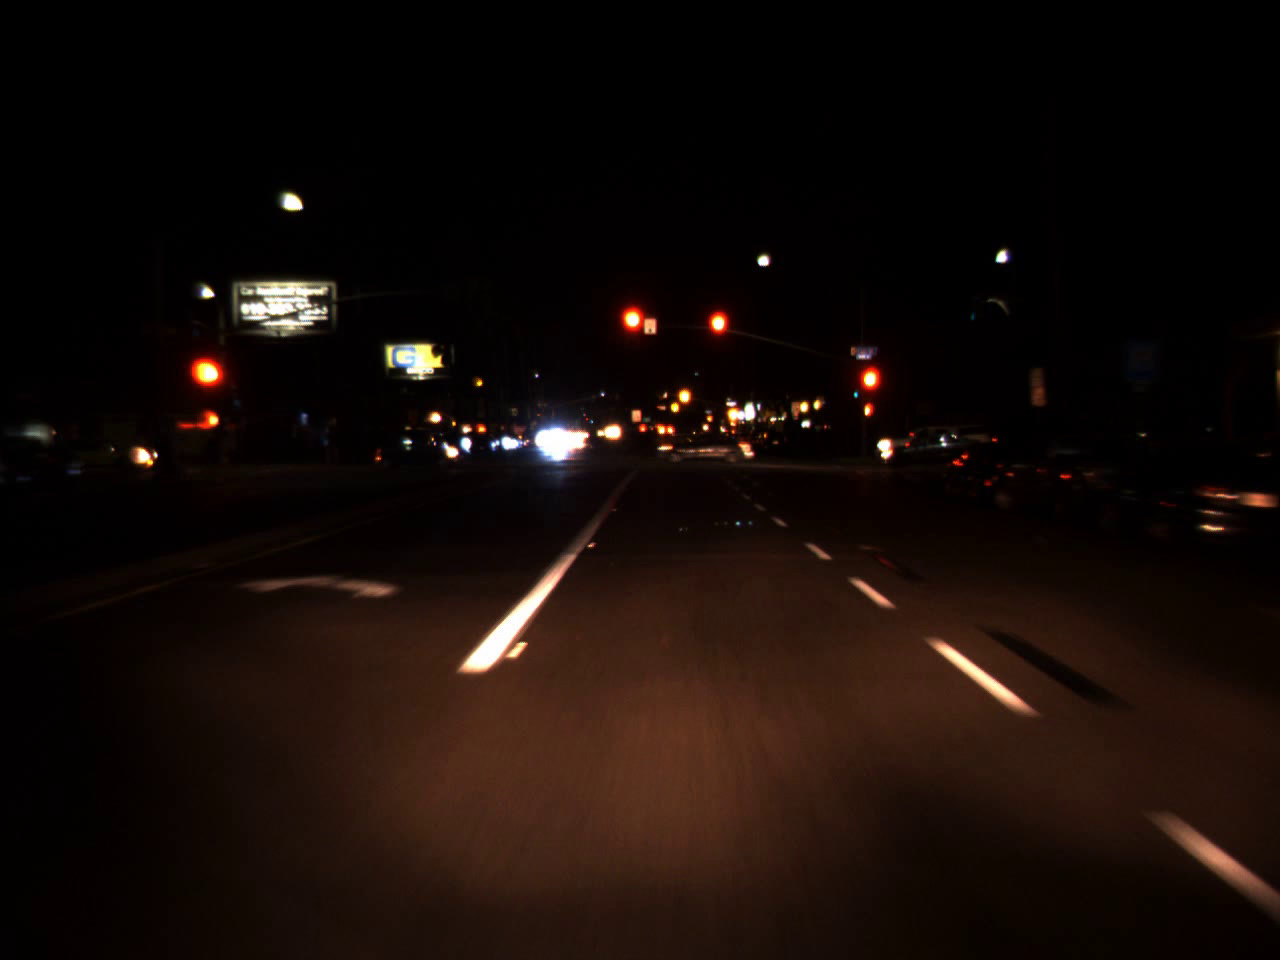stop: (198, 353, 240, 423), (616, 302, 649, 364), (857, 362, 884, 421), (705, 306, 730, 365)
warning: (676, 378, 694, 413), (724, 397, 740, 429), (669, 396, 679, 416), (705, 411, 712, 426)
